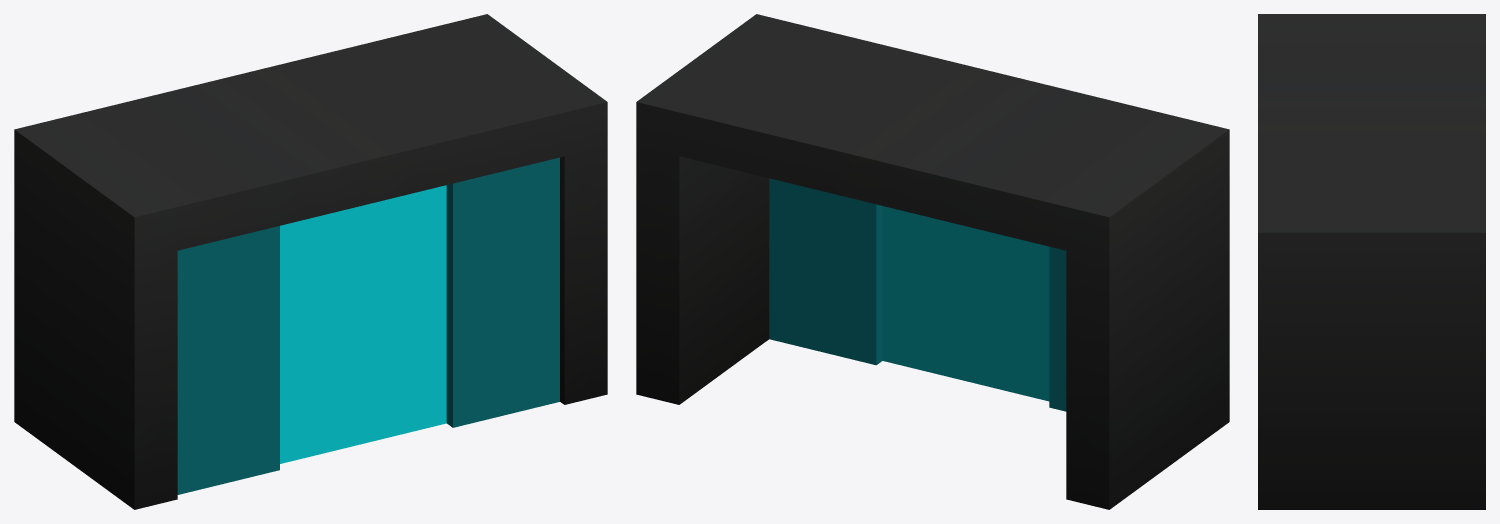
Rendered from AutomaticDoors.fbx.
3 views of the same model, side by side, from view 1: azimuth 30°, elevation 25°; view 2: azimuth 150°, elevation 25°; view 3: azimuth 270°, elevation 25° (orthographic). The views are drawn at different scales.
Visible parts, largest first — view 1: AutomaticDoors, DoorL, DoorR; view 2: AutomaticDoors, DoorL, DoorR; view 3: AutomaticDoors.
Boxes of the visible parts, x1=… form: AutomaticDoors: x1=14, y1=14, x2=607, y2=509; DoorL: x1=360, y1=185, x2=446, y2=444; DoorR: x1=280, y1=206, x2=359, y2=463; AutomaticDoors: x1=636, y1=14, x2=1229, y2=509; DoorL: x1=882, y1=206, x2=969, y2=381; DoorR: x1=968, y1=227, x2=1049, y2=401; AutomaticDoors: x1=1258, y1=14, x2=1485, y2=509.
Bounding box in the file's own units: 220 × 130 × 96.79.
Materials: 1 (1 with a texture image).
